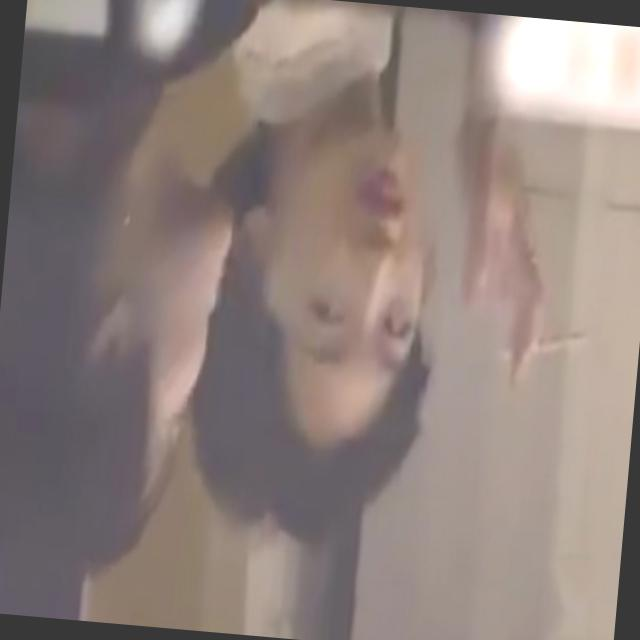smoke: (498, 321, 592, 368)
